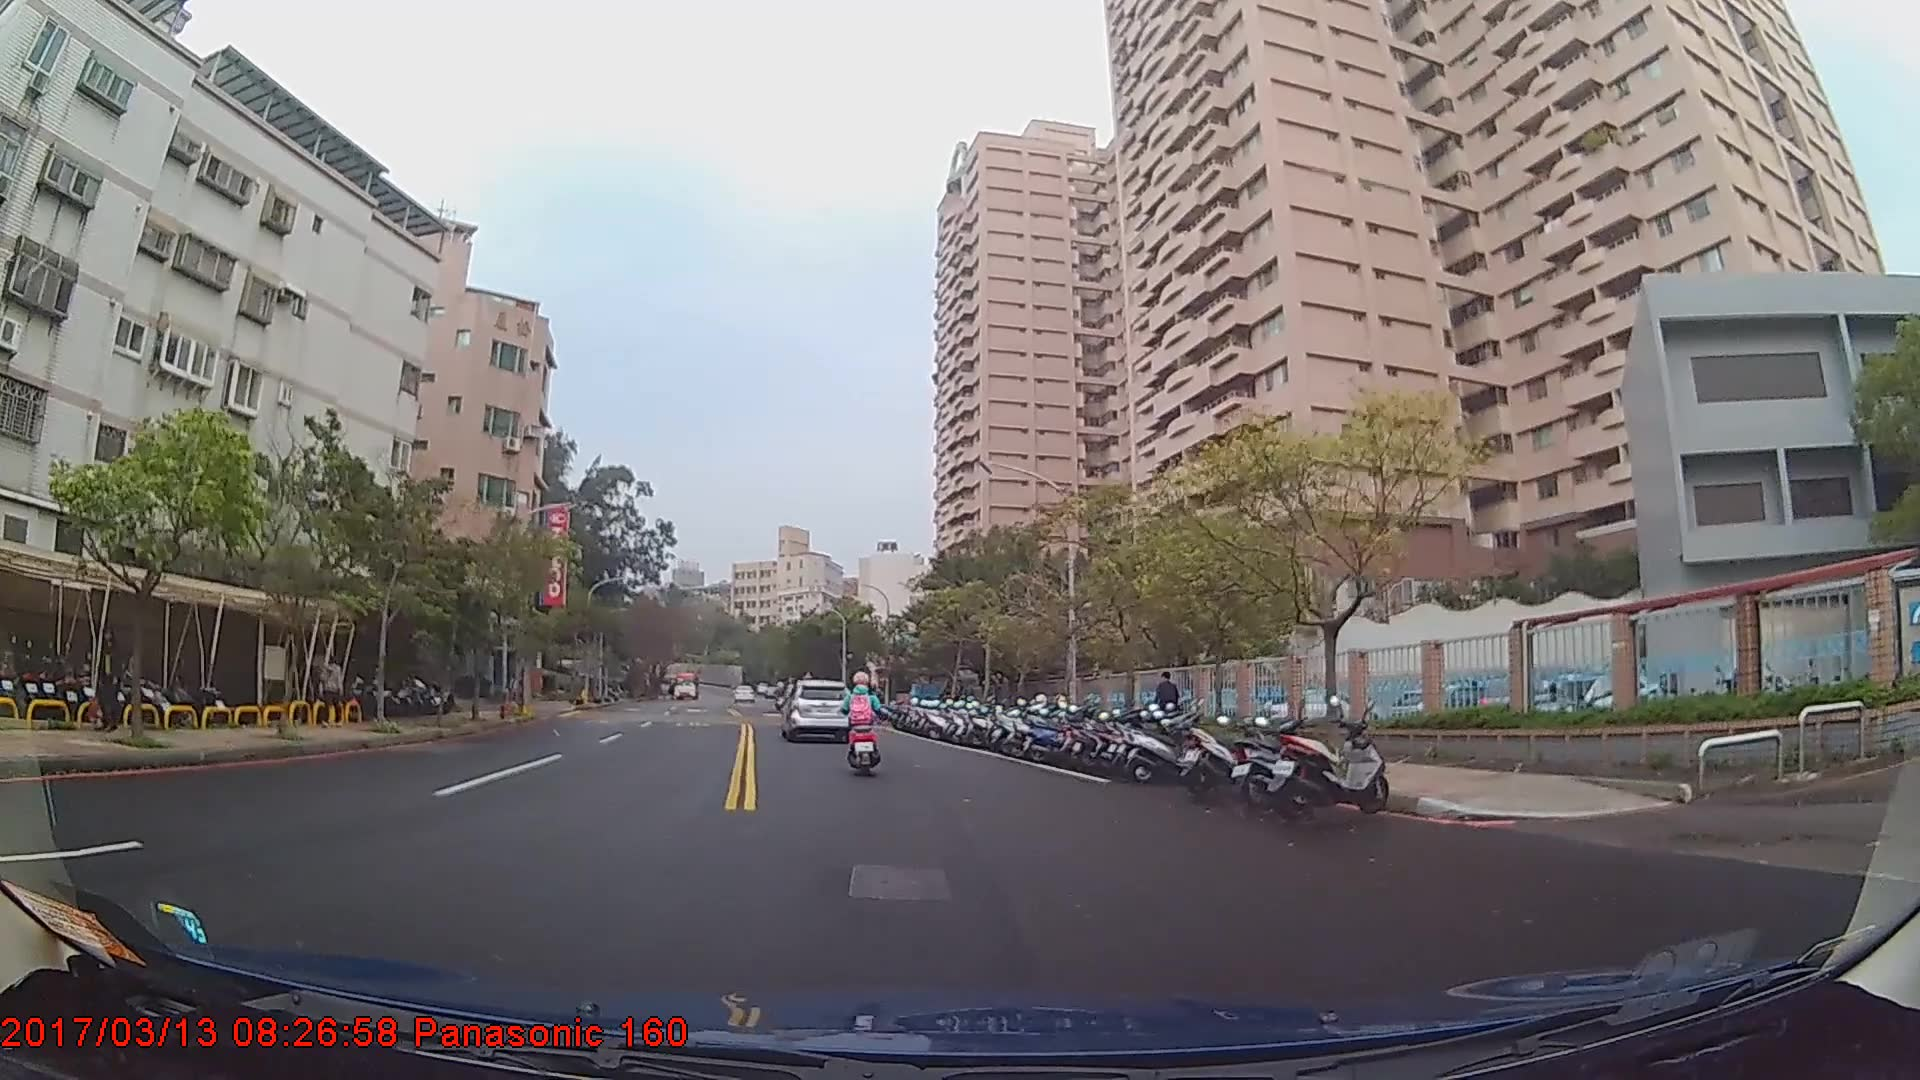pedestrian: (91, 620, 130, 730), (319, 649, 347, 729), (1154, 670, 1183, 744)
rider: (845, 667, 885, 769)
vehicle: (781, 678, 851, 742), (668, 666, 700, 697)
